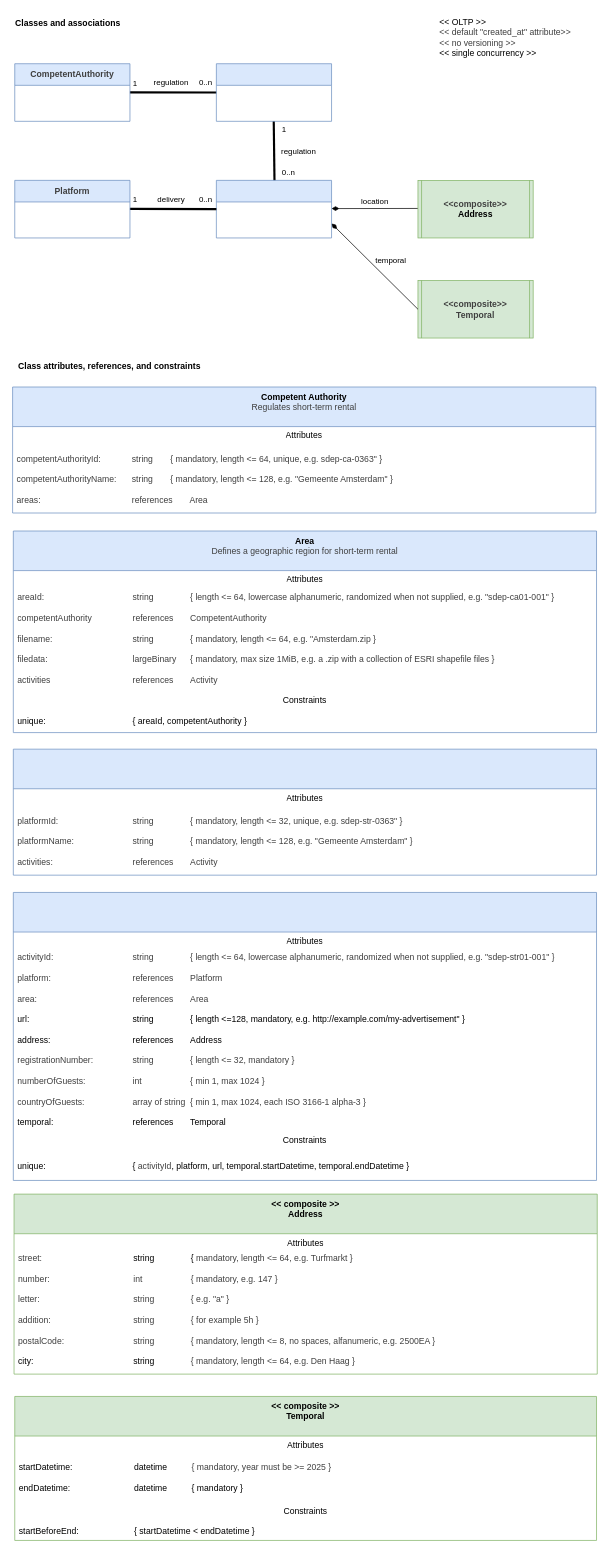
This 610x1553 diagram has some shape labels left out. The shapes that lost their labels are listed below. From the top down, each one's box as (x1, y1, x2, y2) in pixels, then its label:
(216, 63, 332, 121): Area
(216, 180, 332, 238): Activity
(13, 748, 597, 875): Platform Delivers rental activities
(13, 892, 597, 1180): Activity Represents an actual rental activity
